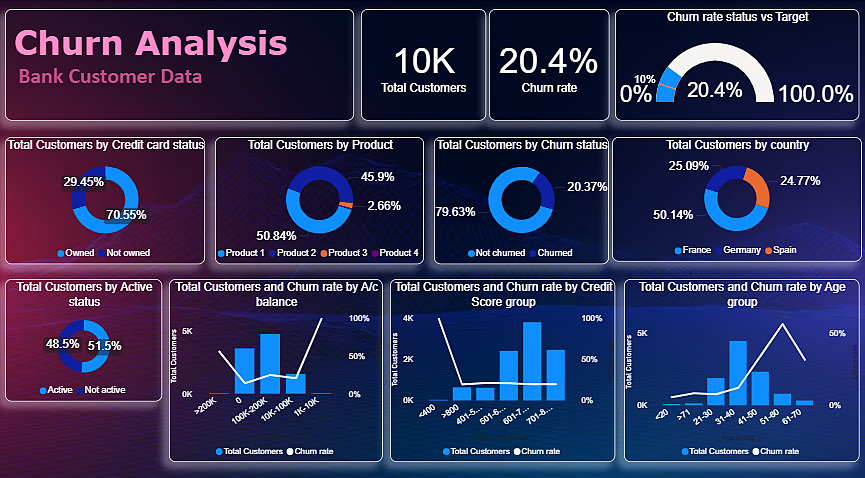

This screenshot's page, from the dashboard's own definition file:
{"tool":"powerbi","page":{"name":"Report Dashboard","canvas":[1280,720],"ordinal":0},"visuals":[{"type":"card","fields":{"Values":["Bank Customer Churn Prediction.Total Customers"]},"box":[532.9,12.9,184.3,164.3],"z":0},{"type":"card","fields":{"Values":["Bank Customer Churn Prediction.Churn rate"]},"box":[721.4,12.9,177.1,164.3],"z":1000},{"type":"donutChart","fields":{"Category":["Bank Customer Churn Prediction.Active status"],"Y":["Bank Customer Churn Prediction.Total Customers"]},"box":[10,410,231.4,180],"z":2000},{"type":"donutChart","fields":{"Y":["Bank Customer Churn Prediction.Total Customers"],"Category":["Bank Customer Churn Prediction.Credit card status"]},"box":[10,201.4,294.3,187.1],"z":3000},{"type":"donutChart","fields":{"Y":["Bank Customer Churn Prediction.Total Customers"],"Category":["Bank Customer Churn Prediction.country"]},"box":[902.9,201.4,367.1,182.9],"z":4000},{"type":"donutChart","fields":{"Y":["Bank Customer Churn Prediction.Total Customers"],"Category":["Bank Customer Churn Prediction.Churn status"]},"box":[640,201.4,257.1,187.1],"z":5000},{"type":"donutChart","fields":{"Y":["Bank Customer Churn Prediction.Total Customers"],"Category":["Bank Customer Churn Prediction.Product"]},"box":[318.6,201.4,307.1,187.1],"z":6000},{"type":"lineStackedColumnComboChart","fields":{"Category":["Bank Customer Churn Prediction.Age group"],"Y":["Bank Customer Churn Prediction.Total Customers"],"Y2":["Bank Customer Churn Prediction.Churn rate"]},"box":[920,410,345.7,268.6],"z":7000},{"type":"lineStackedColumnComboChart","fields":{"Y":["Bank Customer Churn Prediction.Total Customers"],"Y2":["Bank Customer Churn Prediction.Churn rate"],"Category":["Bank Customer Churn Prediction.Credit Score group"]},"box":[575.7,410,331.4,268.6],"z":8000},{"type":"lineStackedColumnComboChart","fields":{"Y":["Bank Customer Churn Prediction.Total Customers"],"Y2":["Bank Customer Churn Prediction.Churn rate"],"Category":["Bank Customer Churn Prediction.A/c balance"]},"box":[251.4,410,314.3,268.6],"z":9000},{"type":"gauge","title":"Churn rate status vs Target","fields":{"MinValue":["Bank Customer Churn Prediction.Min Churn rate"],"TargetValue":["Bank Customer Churn Prediction.Target Churn rate"],"Y":["Bank Customer Churn Prediction.Churn rate"]},"box":[907.1,12.9,358.6,164.3],"z":10000},{"type":"textbox","box":[10,12.9,512.9,164.3],"z":11000}]}

Visuals, with their boxes in screenshot pixels (x1, y1, x2, y2), scaled from the page's 1280x720 canvas onto the 865x478 screenshot:
card - Bank Customer Churn Prediction.Total Customers: pyautogui.locateOnScreen(360, 9, 485, 118)
card - Bank Customer Churn Prediction.Churn rate: pyautogui.locateOnScreen(488, 9, 607, 118)
donutChart - Bank Customer Churn Prediction.Active status x Bank Customer Churn Prediction.Total Customers: pyautogui.locateOnScreen(7, 272, 163, 392)
donutChart - Bank Customer Churn Prediction.Total Customers x Bank Customer Churn Prediction.Credit card status: pyautogui.locateOnScreen(7, 134, 206, 258)
donutChart - Bank Customer Churn Prediction.Total Customers x Bank Customer Churn Prediction.country: pyautogui.locateOnScreen(610, 134, 858, 255)
donutChart - Bank Customer Churn Prediction.Total Customers x Bank Customer Churn Prediction.Churn status: pyautogui.locateOnScreen(432, 134, 606, 258)
donutChart - Bank Customer Churn Prediction.Total Customers x Bank Customer Churn Prediction.Product: pyautogui.locateOnScreen(215, 134, 423, 258)
lineStackedColumnComboChart - Bank Customer Churn Prediction.Age group x Bank Customer Churn Prediction.Total Customers: pyautogui.locateOnScreen(622, 272, 855, 451)
lineStackedColumnComboChart - Bank Customer Churn Prediction.Total Customers x Bank Customer Churn Prediction.Churn rate: pyautogui.locateOnScreen(389, 272, 613, 451)
lineStackedColumnComboChart - Bank Customer Churn Prediction.Total Customers x Bank Customer Churn Prediction.Churn rate: pyautogui.locateOnScreen(170, 272, 382, 451)
"Churn rate status vs Target" gauge: pyautogui.locateOnScreen(613, 9, 855, 118)
textbox: pyautogui.locateOnScreen(7, 9, 353, 118)
